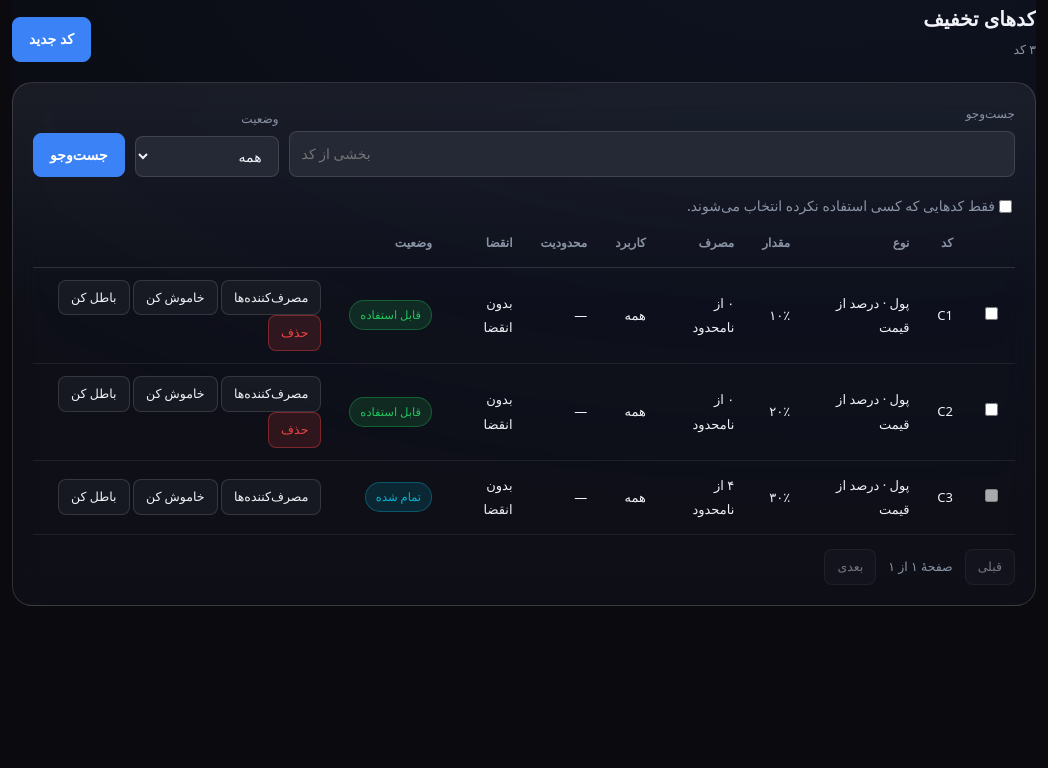
Scenario: bulk delete (#383) › one confirm, one DELETE per picked code, a refusal is reported not fatal
Expected: the text "C1" is shown, [923,267,967,364]
Click the checkbox named "انتخاب همهٔ ردیف‌ها": (1006,206) [999,200,1012,213]
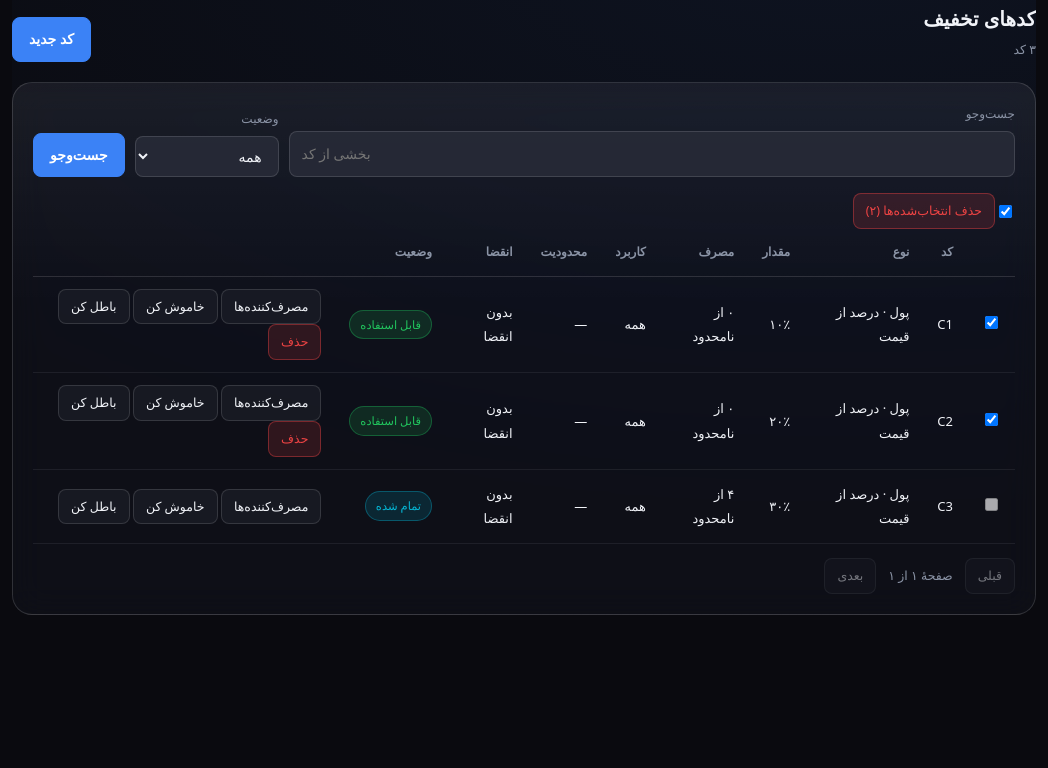
Click the button "حذف انتخاب‌شده‌ها (۲)": (924,211) [853,193,995,229]
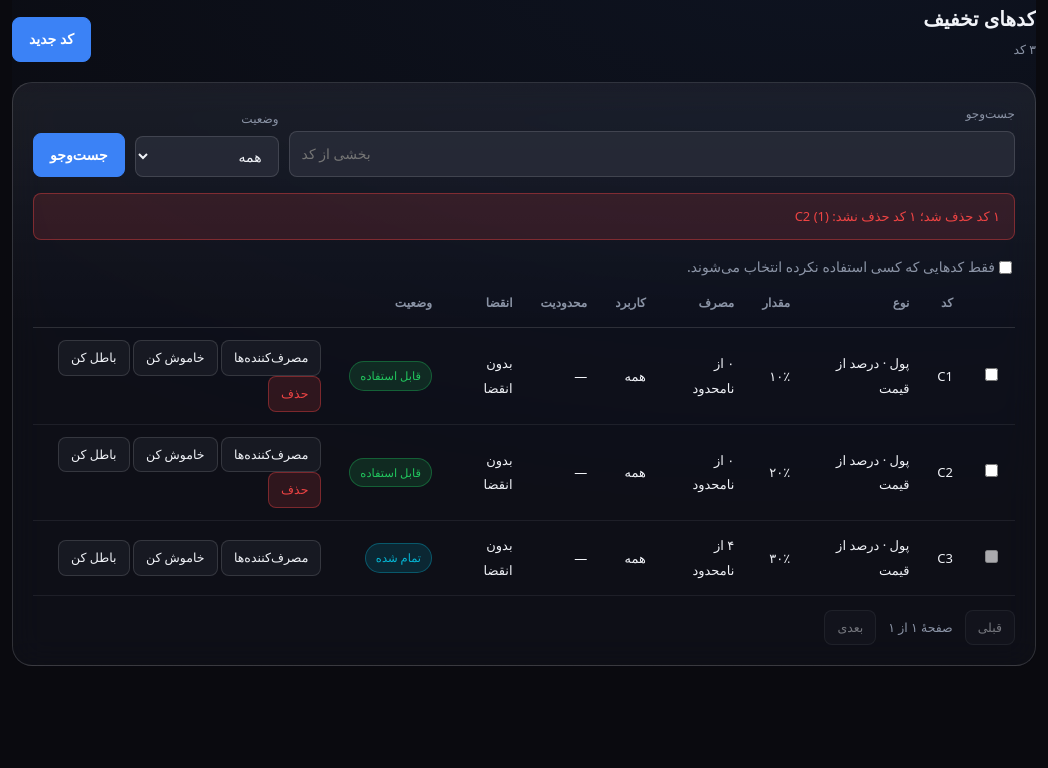
Now the text "۱ کد حذف شد؛ ۱ کد حذف نشد: C2 (1)" is shown, box [33,193,1015,240]
